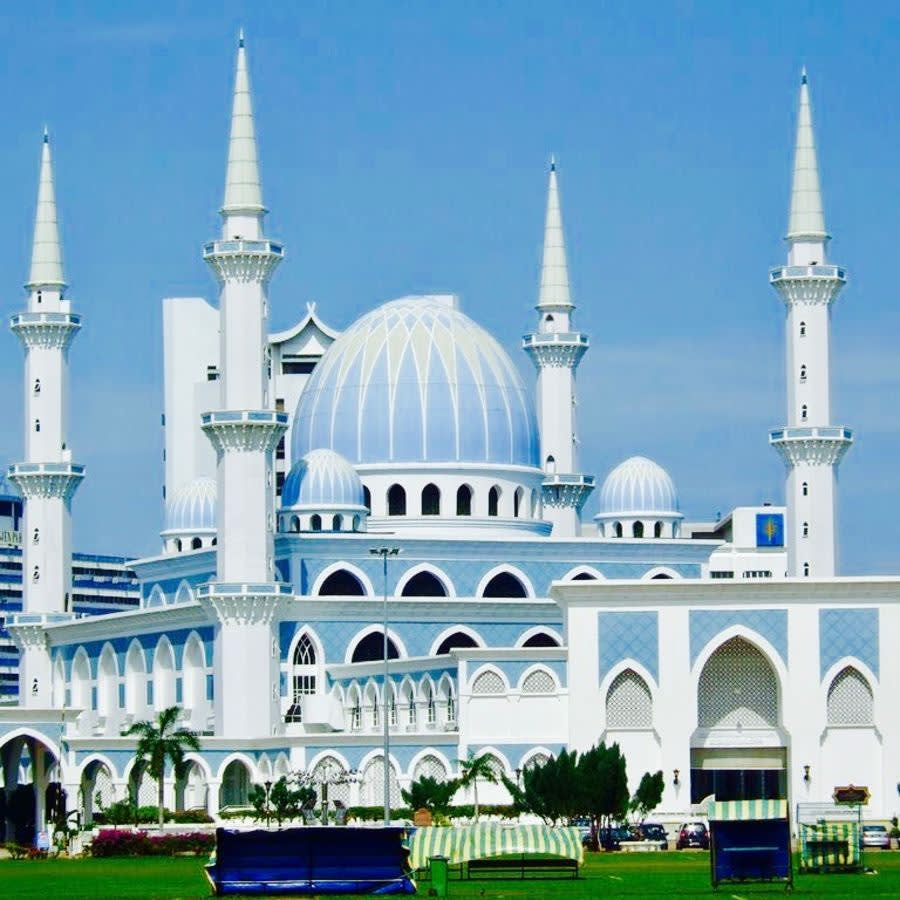Mosque: (7, 27, 890, 785)
